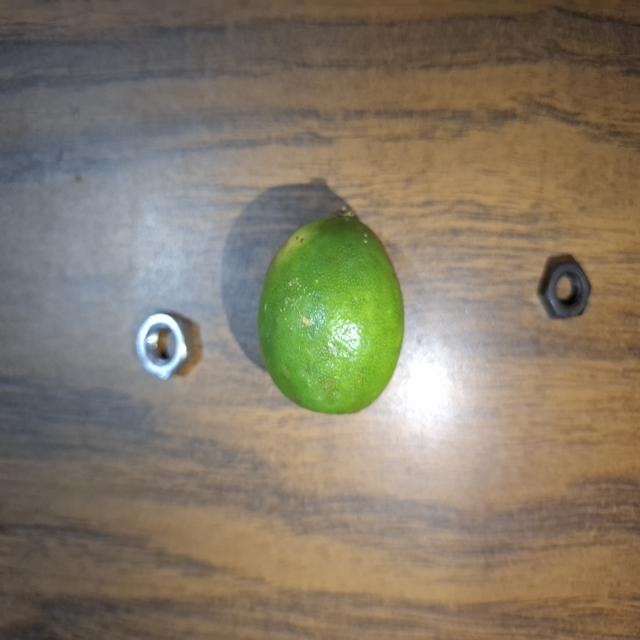limon: (254, 198, 406, 420)
milimetrico: (535, 256, 600, 330)
tuerca: (132, 305, 198, 382)
